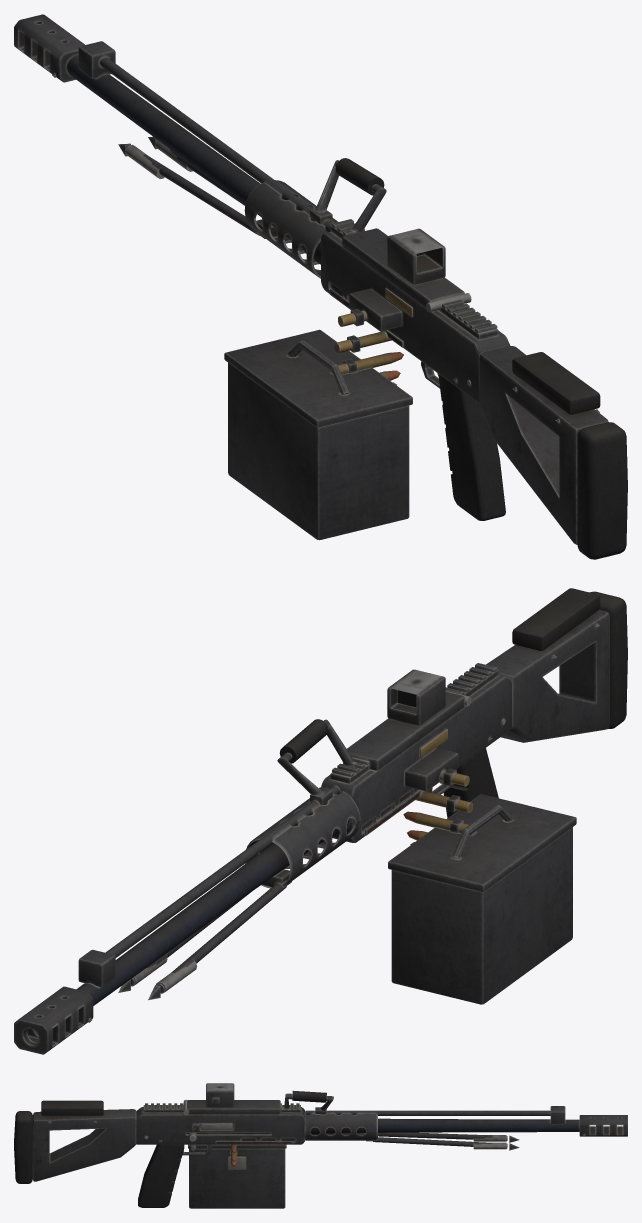
File: defender_heavy_round_mg.glb
The picture shows the model from 3 angles, top to bottom: view 1: azimuth 30°, elevation 25°; view 2: azimuth 150°, elevation 25°; view 3: azimuth 270°, elevation 25°; orthographic projection. The views are drawn at different scales.
Parts seen in each view (by area): view 1: defender_heavy_round_mg; view 2: defender_heavy_round_mg; view 3: defender_heavy_round_mg.
Boxes of the visible parts, x1,y1,x2,y2 form: defender_heavy_round_mg: [14, 14, 627, 559]; defender_heavy_round_mg: [14, 588, 627, 1054]; defender_heavy_round_mg: [14, 1083, 627, 1208].
Size of the model in its own units: 0.2327 by 0.3395 by 1.41.
1 material, 1 textured.
